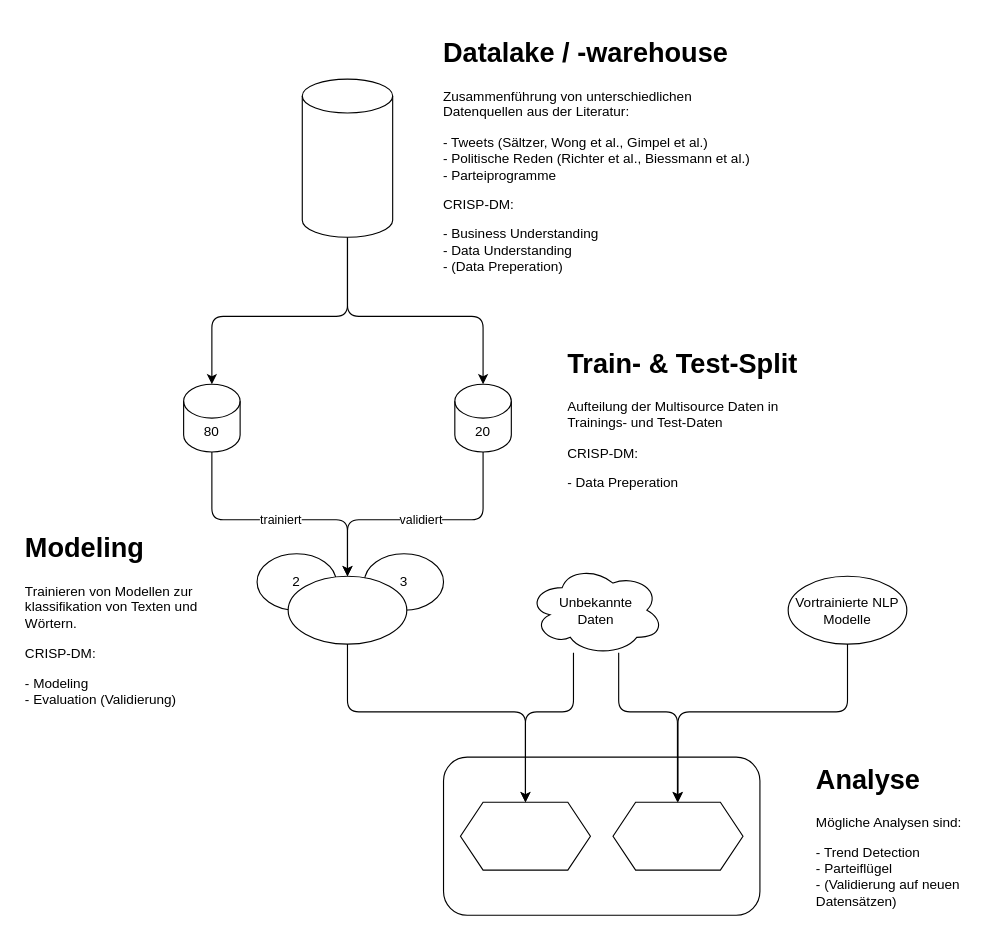
The diagram is 999 pixels wide and 935 high, and some of its shapes have lost their labels. The shapes that lost their labels are listed below. From the top down, each one's centre as x and y in pixels, then its label:
At (347,609): "Modell 1".
At (524,835): "Klassifikations-ergebniss".
At (677,835): "NLP / Sentiment Analysen".
